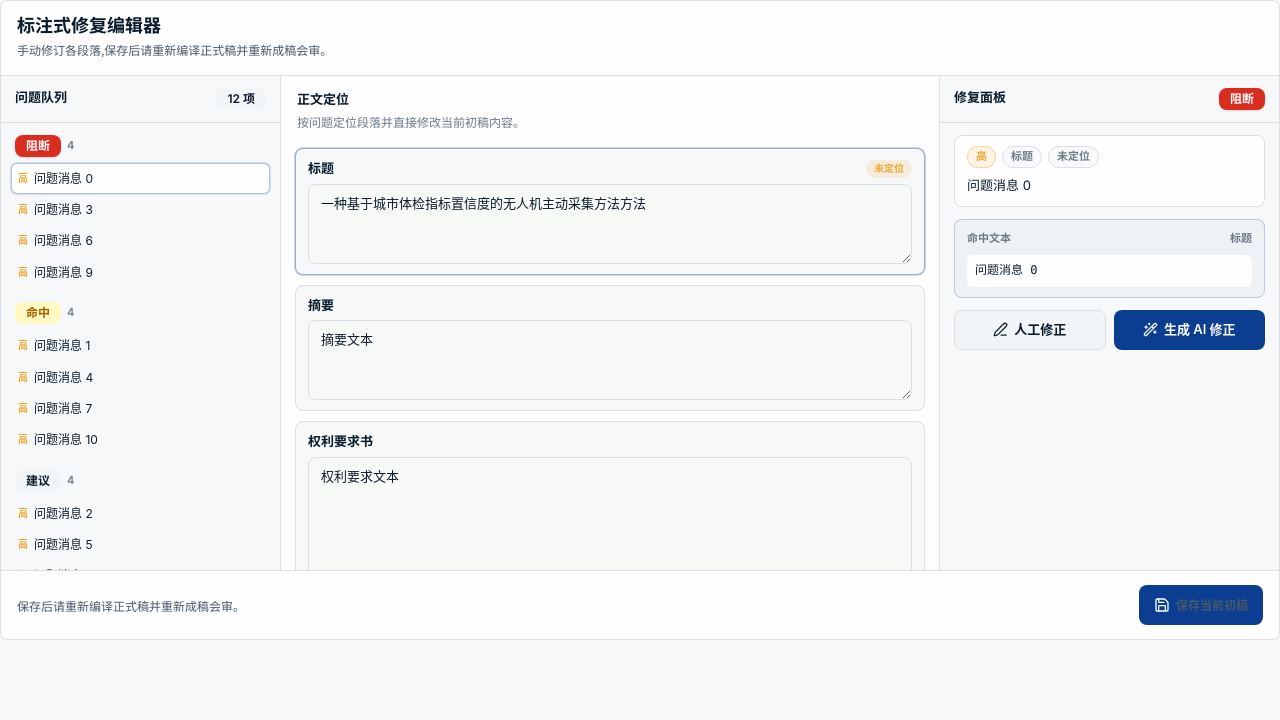
Test case: PostDraftRepairEditor › renders 10+ issues, and selecting an issue updates selected draft section and inspector
Check: the text "12 项" is shown, box [216, 88, 266, 110]
Click the button "高 问题消息 5".
click(140, 545)  # box [11, 529, 270, 560]
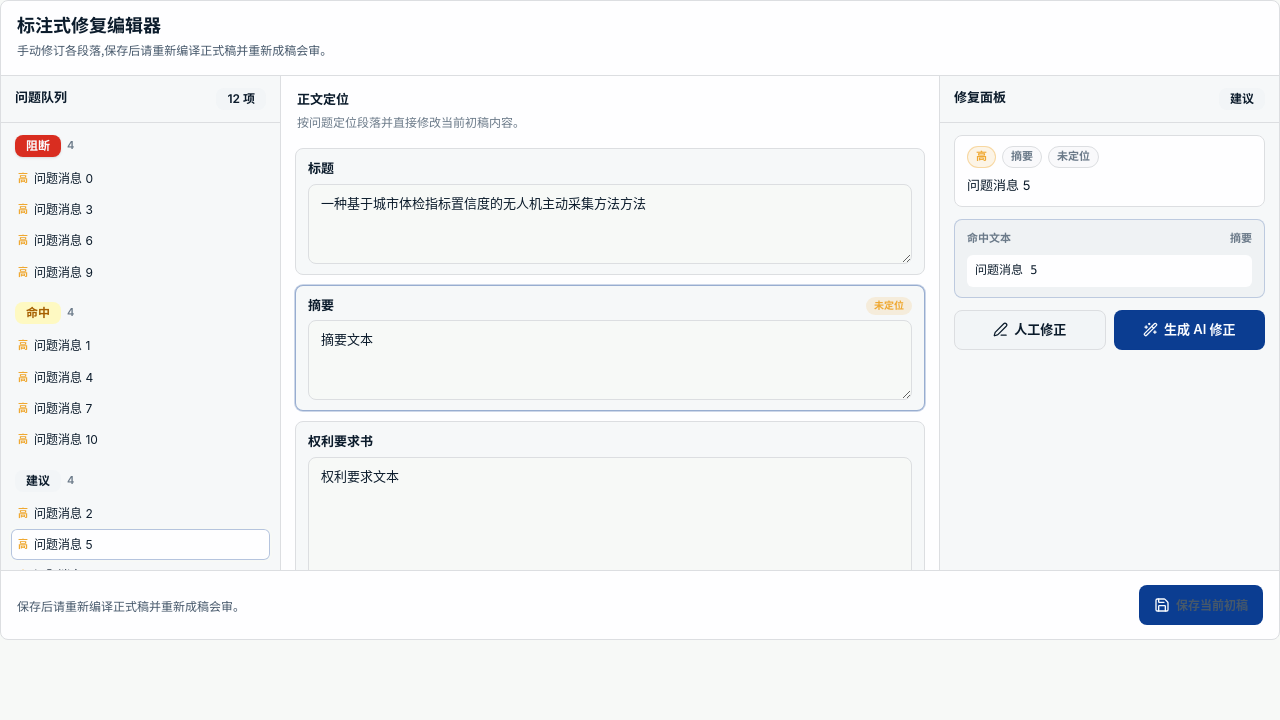
Check: the 3rd text "问题消息 5" is shown, box [34, 537, 92, 552]
Check: the 1st text "问题消息 5" is shown, box [967, 178, 1030, 194]
